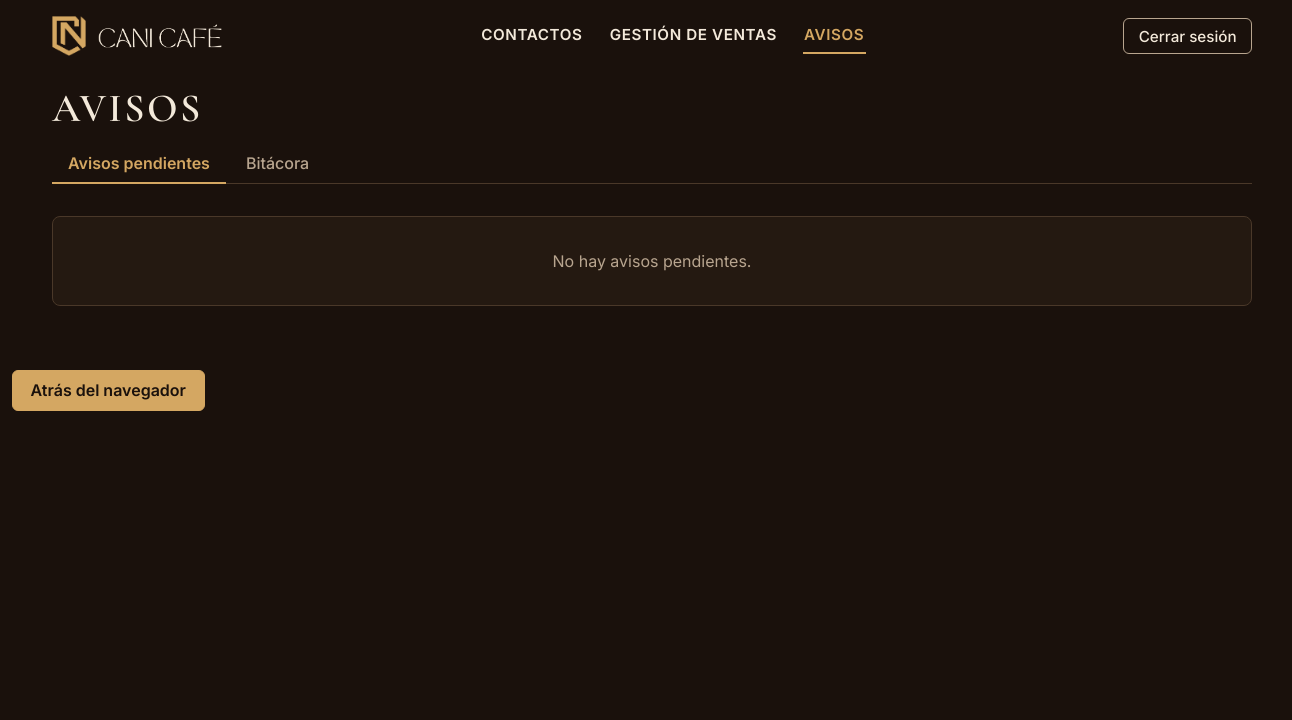
Test case: pestañas de la pantalla "Avisos" › la pestaña "Bitácora" muestra el buscador y la lista de contactos, y la de avisos vuelve a la tabla
This screenshot has width=1292, height=720.
Click the tab "Bitácora".
click(278, 164)  # box [230,144,325,184]
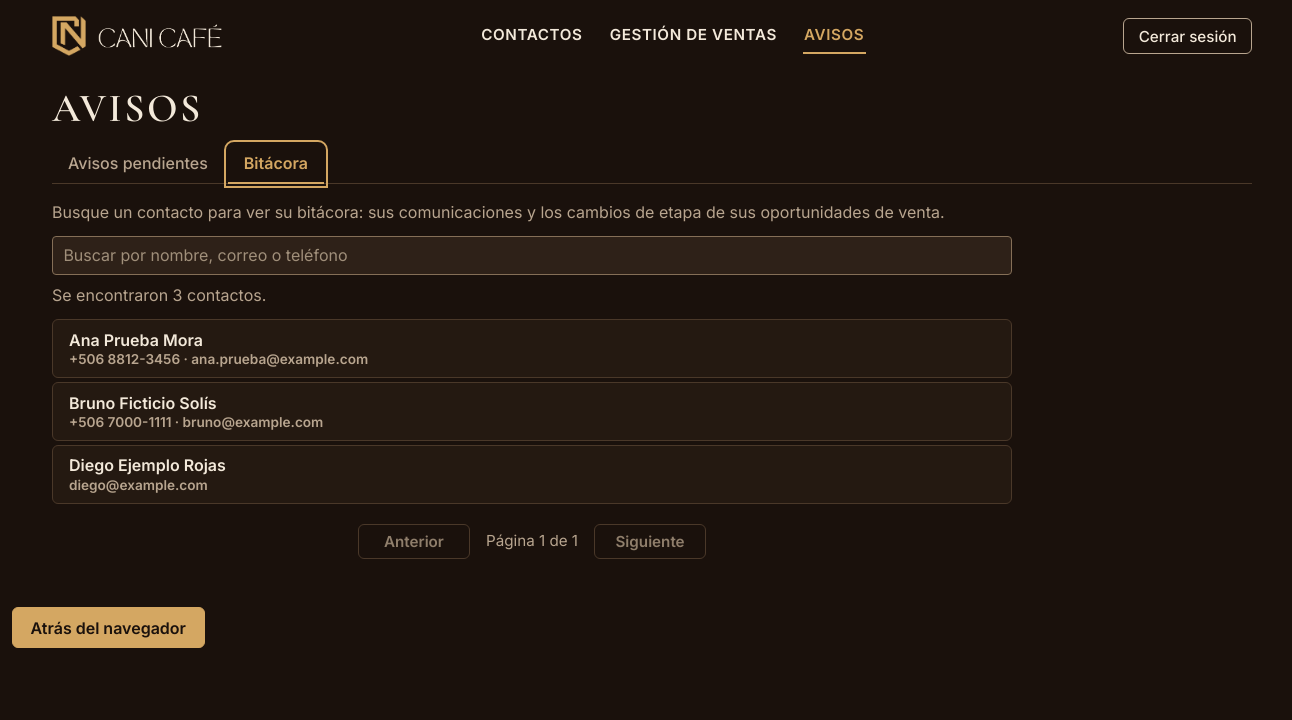
Expected: the search field labelled "Buscar por nombre, correo o teléfono" is shown, [52,236,1012,275]
Expected: the text "Busque un contacto para ver su bitácora" is shown, [52,202,945,222]
Click the tab "Avisos pendientes".
click(138, 164)  # box [52,144,224,184]
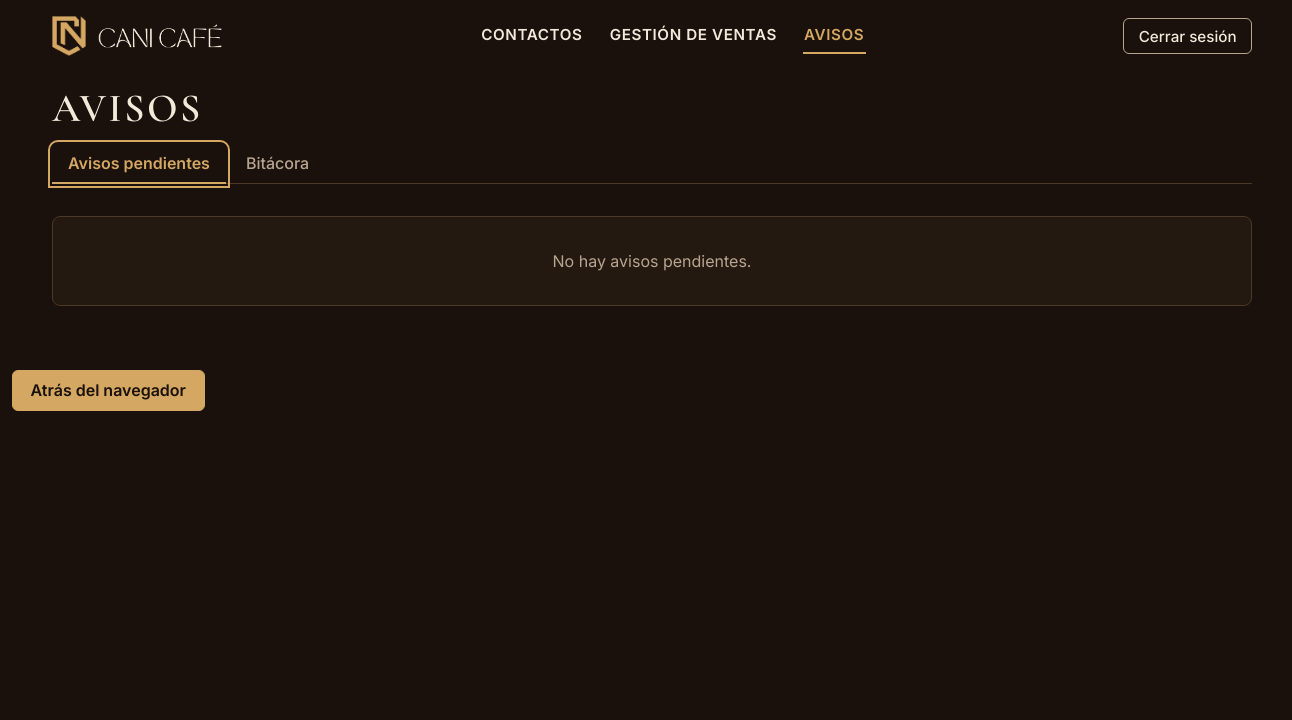
Expected: the text "No hay avisos pendientes." is shown, [52,216,1252,306]
